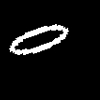chain: (10, 24, 67, 54)
